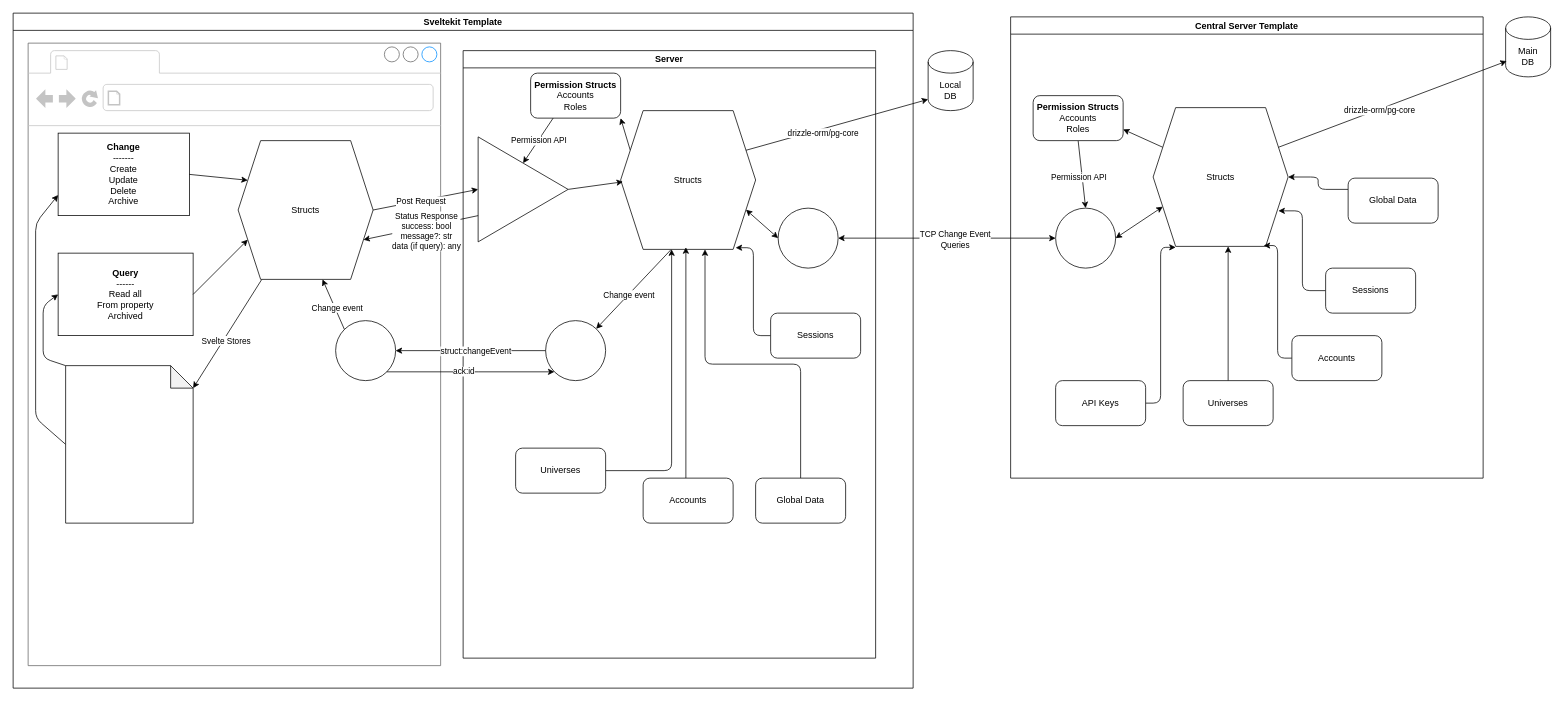
Image size: 1564x701. Some labels were removed from this diagram. Each missing label, with the centre of its shape:
"Client SSE" goes at pixel 365 350.
"eventHandler()" goes at pixel 522 189.
"https://www.sveltekit.org" goes at pixel 219 97.
"Server SSE" goes at pixel 575 350.
"sveltekit" goes at pixel 114 61.
"TCP API Client" goes at pixel 807 237.
"TCP API Server" goes at pixel 1085 237.
"View" goes at pixel 129 444.
